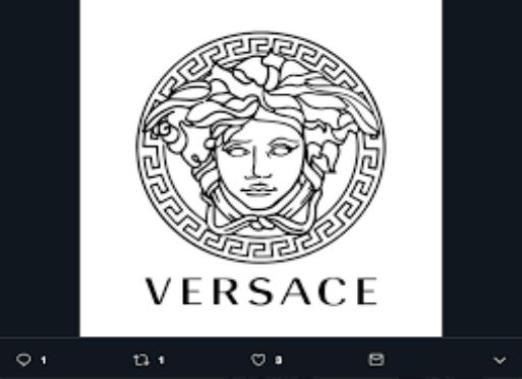VERSACE: (105, 23, 411, 309)
